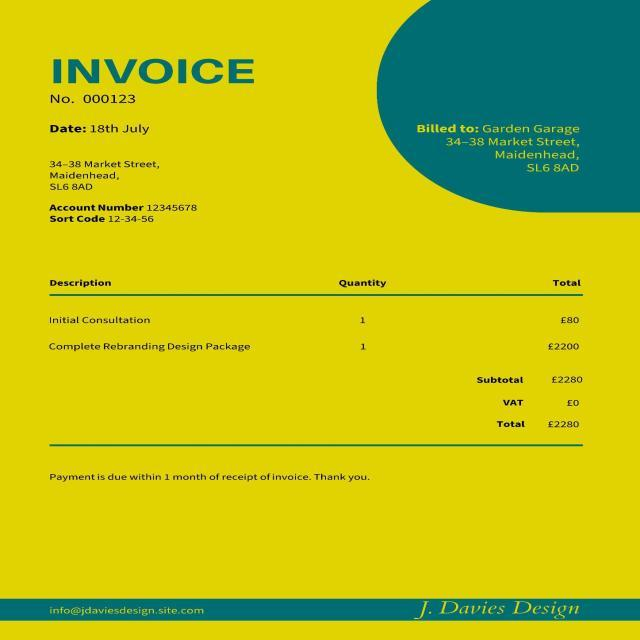ROI: (21, 277, 612, 358), (40, 156, 208, 227), (417, 124, 588, 174), (468, 372, 602, 433), (46, 54, 264, 87), (49, 473, 372, 489), (416, 600, 589, 622), (44, 600, 208, 620), (47, 121, 158, 139), (38, 93, 148, 109)
